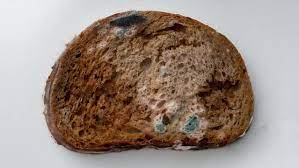mold_bread: (109, 10, 143, 39), (180, 114, 203, 134), (151, 117, 170, 134), (157, 65, 169, 78)
